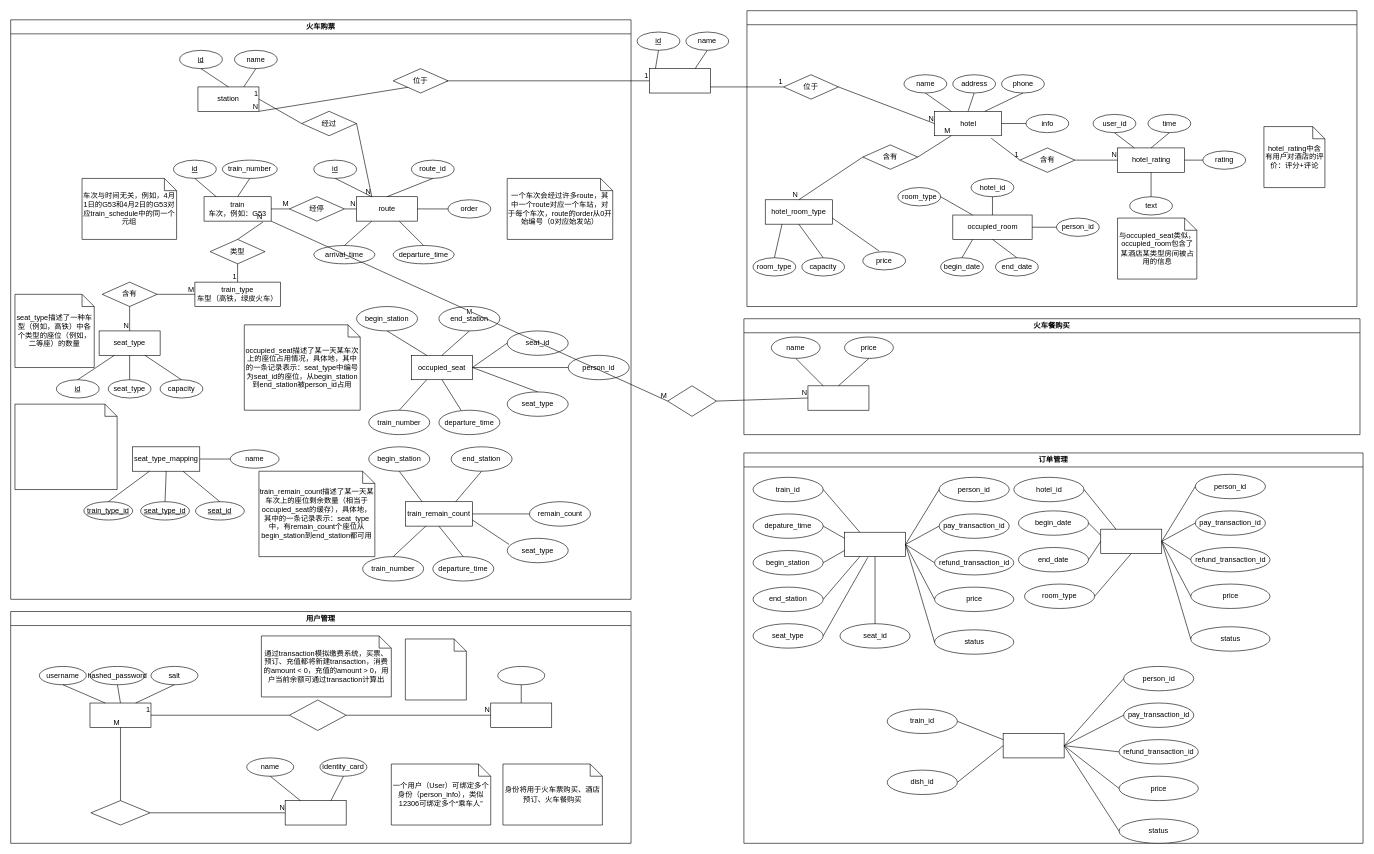
The diagram is 1374 pixels wide and 854 high, and some of its shapes have lost their labels. The centre of each missing label's shape, as x and y in pixels:
"amount" goes at point (521, 675).
"city" goes at point (679, 80).
"dish" goes at point (838, 397).
"dish_order" goes at point (1033, 745).
"hotel_order" goes at point (1131, 541).
"person_info" goes at point (315, 812).
"train_order" goes at point (875, 544).
"transaction" goes at point (521, 714).
"user" goes at point (120, 714).
"为了方便运算，对于每个车型，我们将其上的所有座位从0开始编号。seat_type_mapping用于将编号还原为人类可读的格式（例如，“03车10A 二等座”）" goes at point (65, 447).
"余额的单位为SC（Super Credit）" goes at point (435, 669).
"出售" goes at point (691, 400).
"绑定" goes at point (120, 812).
"进行" goes at point (317, 714).
"酒店预订" goes at point (1051, 158).
